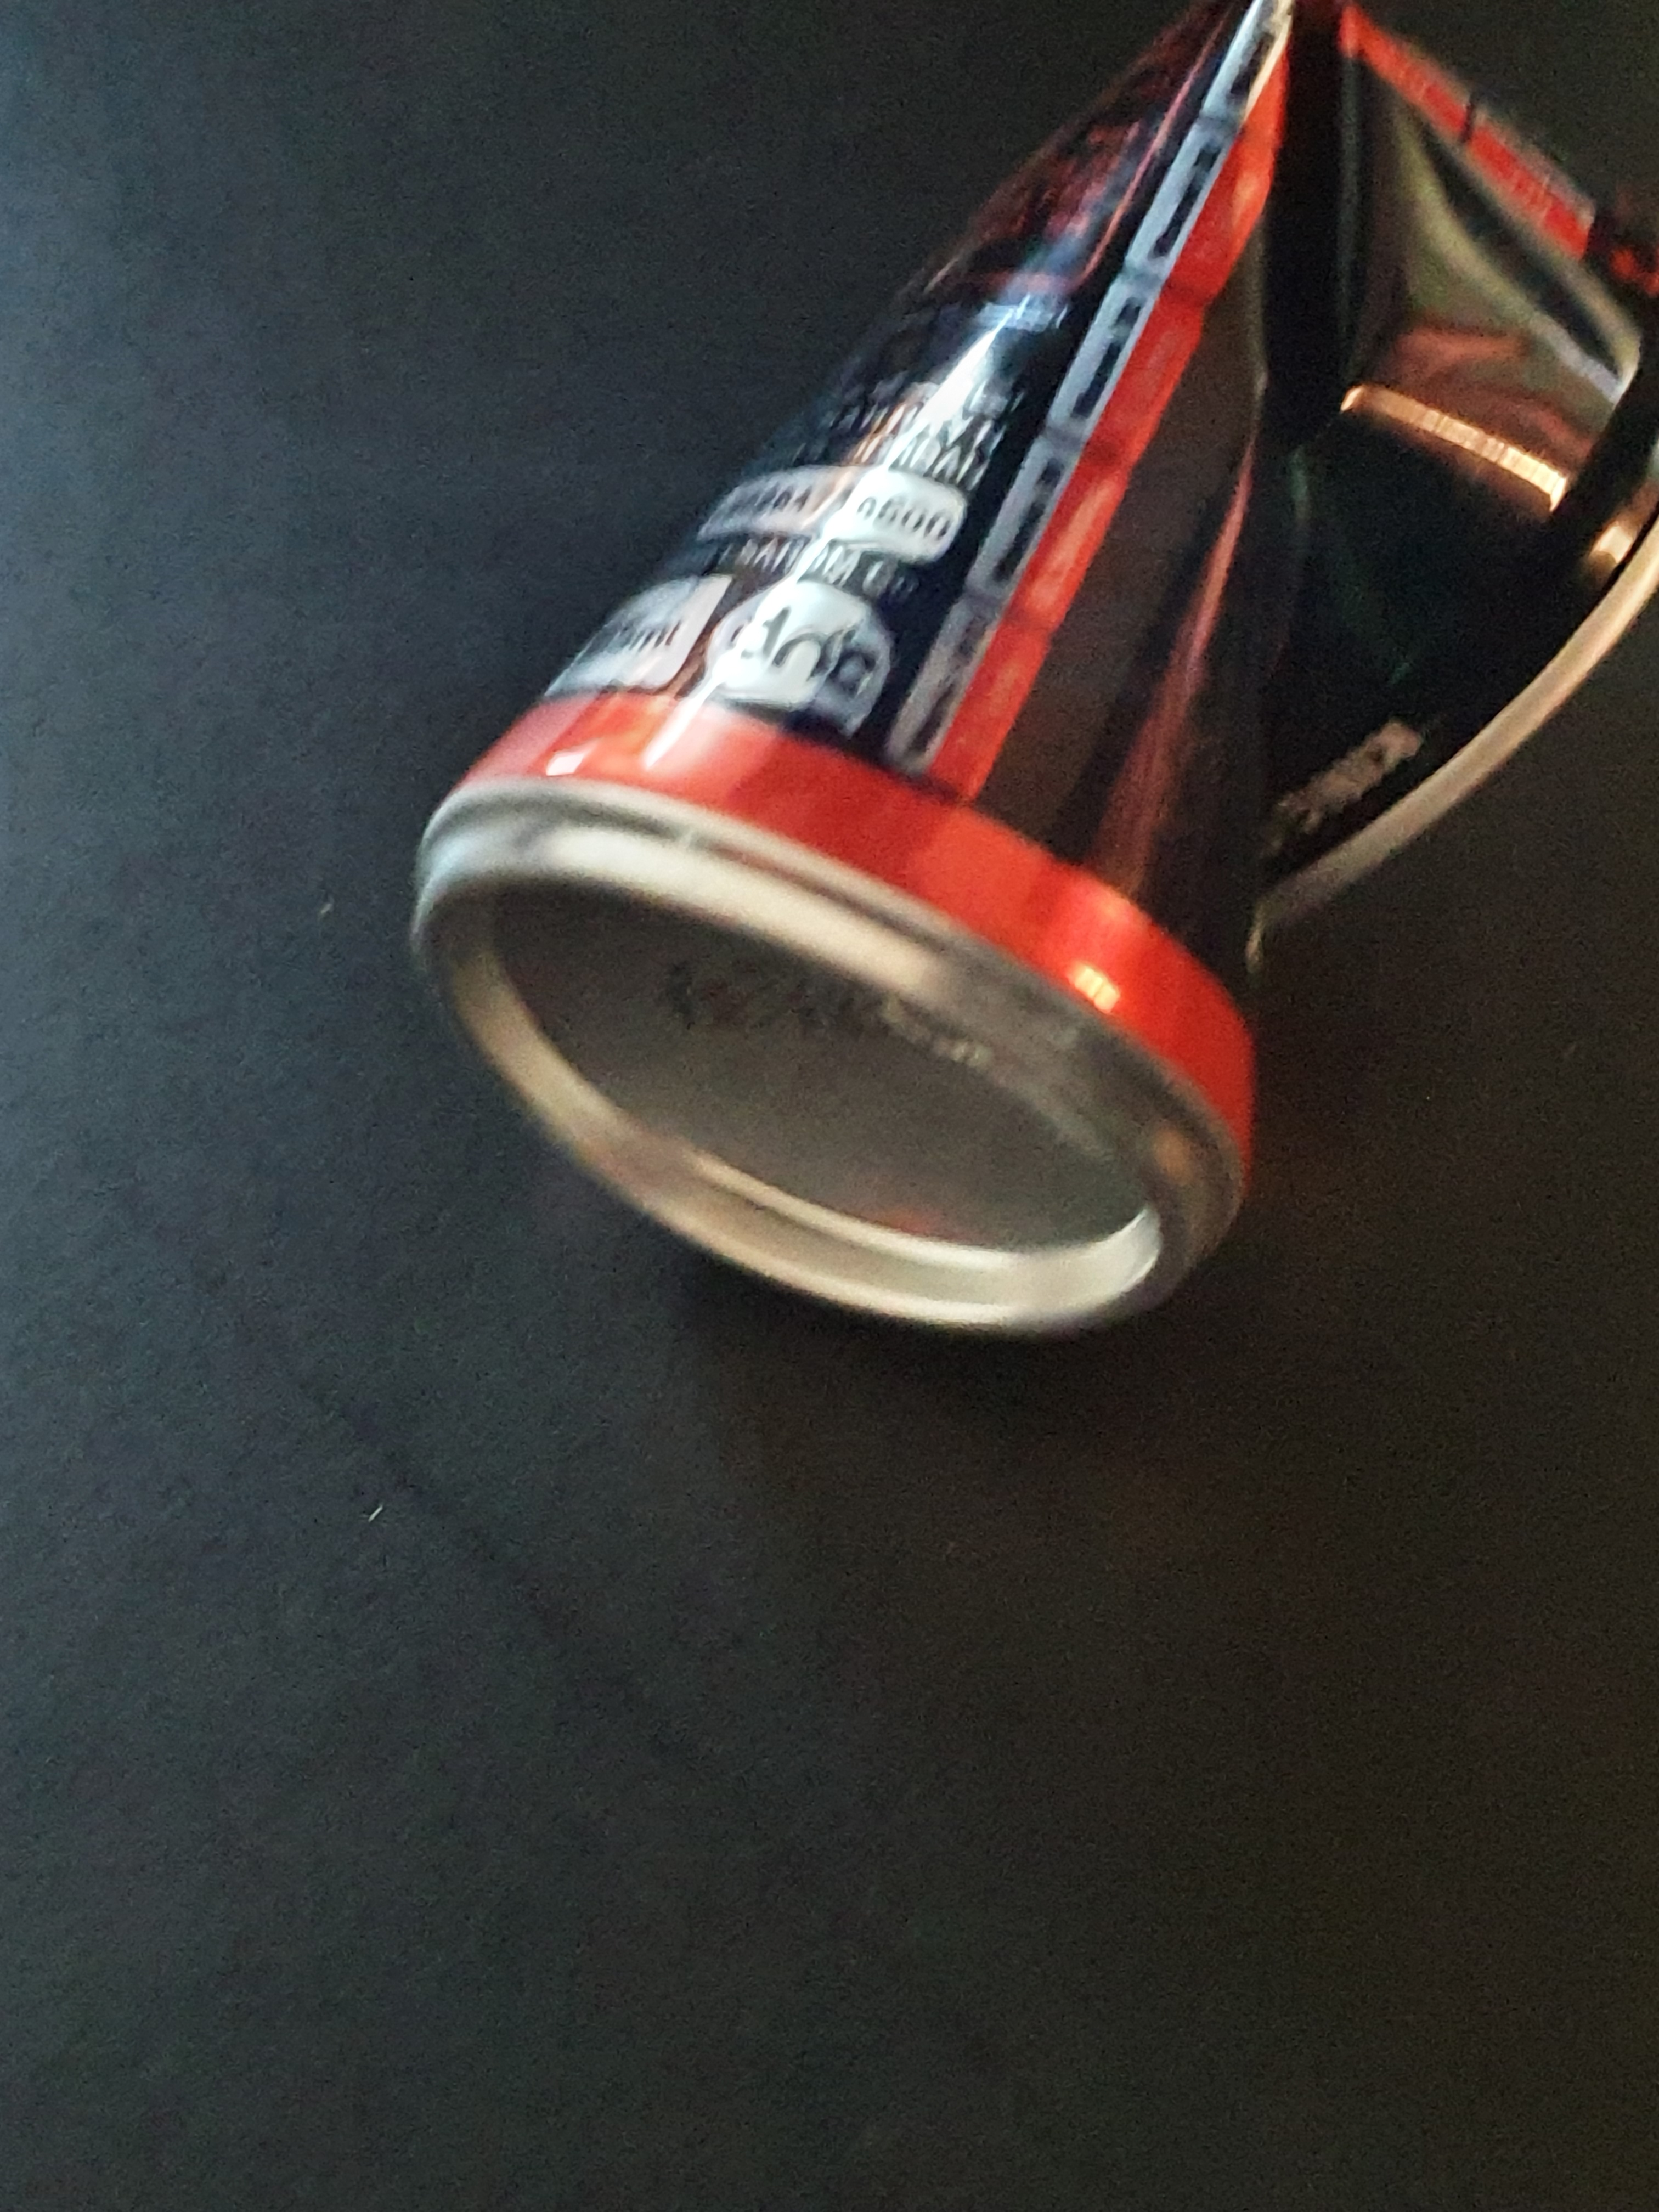metal: (383, 14, 1659, 1433)
